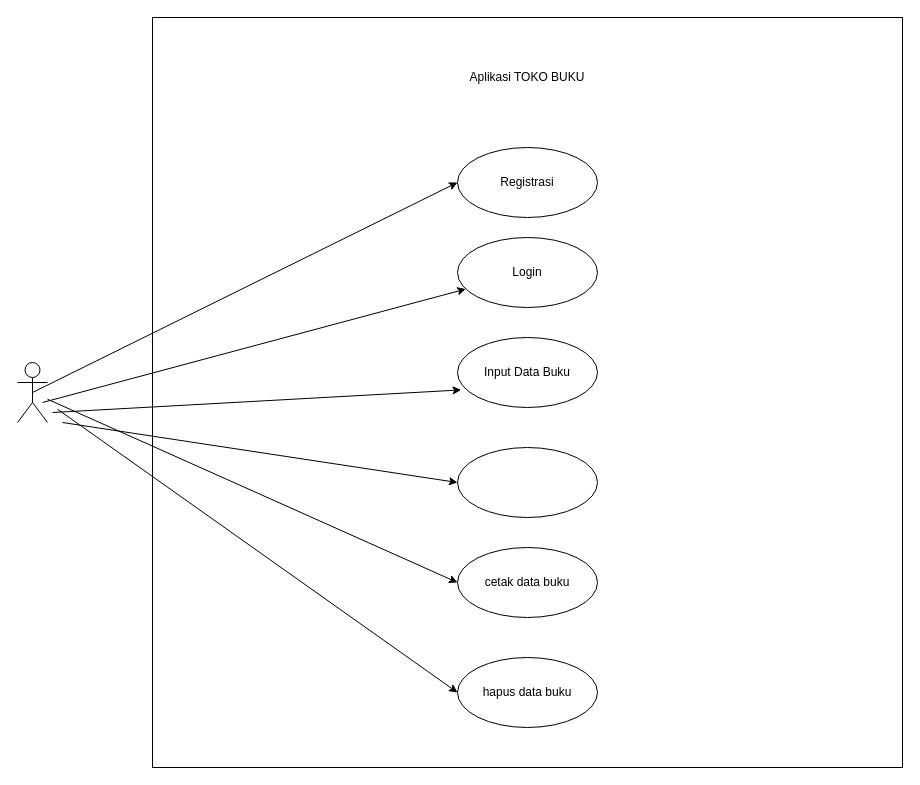
The diagram is 920 pixels wide and 785 high, and some of its shapes have lost their labels. The shapes that lost their labels are listed below. From the top down, each one's centre as x and y in pixels, then its label:
At point 32,392: "Actor".
At point 527,482: "Update data buku".
